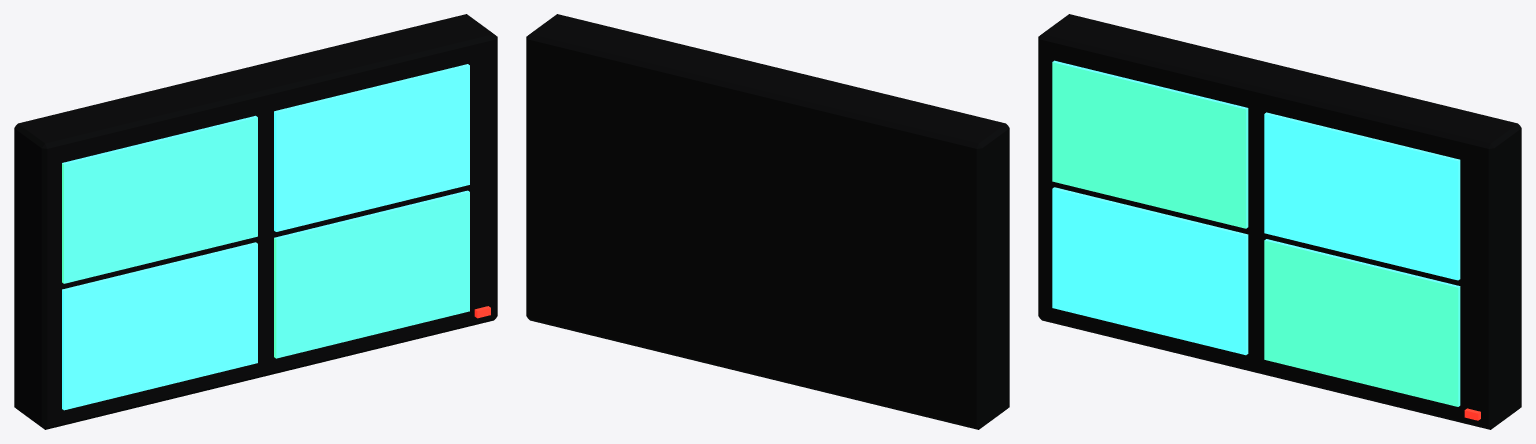
The model's file is cctv_monitor_wall.glb.
The picture shows the model from 3 angles, left to right: view 1: azimuth 30°, elevation 25°; view 2: azimuth 150°, elevation 25°; view 3: azimuth 330°, elevation 25°; orthographic projection.
Visible parts, largest first — view 1: cctv_monitor_wall; view 2: cctv_monitor_wall; view 3: cctv_monitor_wall.
Part boxes in pixels (x1=…): cctv_monitor_wall: x1=14, y1=14, x2=497, y2=429; cctv_monitor_wall: x1=526, y1=14, x2=1009, y2=429; cctv_monitor_wall: x1=1038, y1=14, x2=1521, y2=429.
Bounding box in the file's own units: 1 × 0.6 × 0.13.
